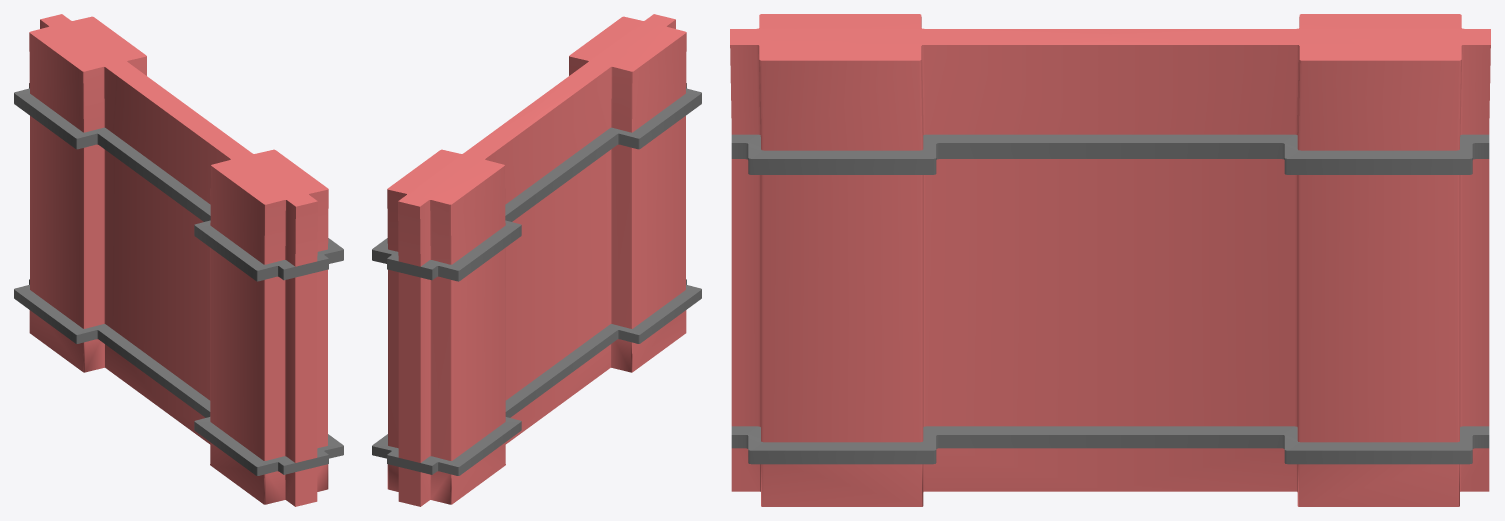
File: WallWindow.fbx
3 renders of one model, left to right at view 1: azimuth 30°, elevation 25°; view 2: azimuth 150°, elevation 25°; view 3: azimuth 270°, elevation 25°, orthographic. The views are drawn at different scales.
Visible parts, largest first — view 1: DoorTest007; view 2: DoorTest007; view 3: DoorTest007.
Boxes of the visible parts, left/top/right/bottom form: DoorTest007: left=14, top=14, right=343, bottom=506; DoorTest007: left=372, top=14, right=701, bottom=506; DoorTest007: left=730, top=14, right=1490, bottom=506.
Bounding box in the file's own units: 0.9916 × 3.26 × 5.02.
